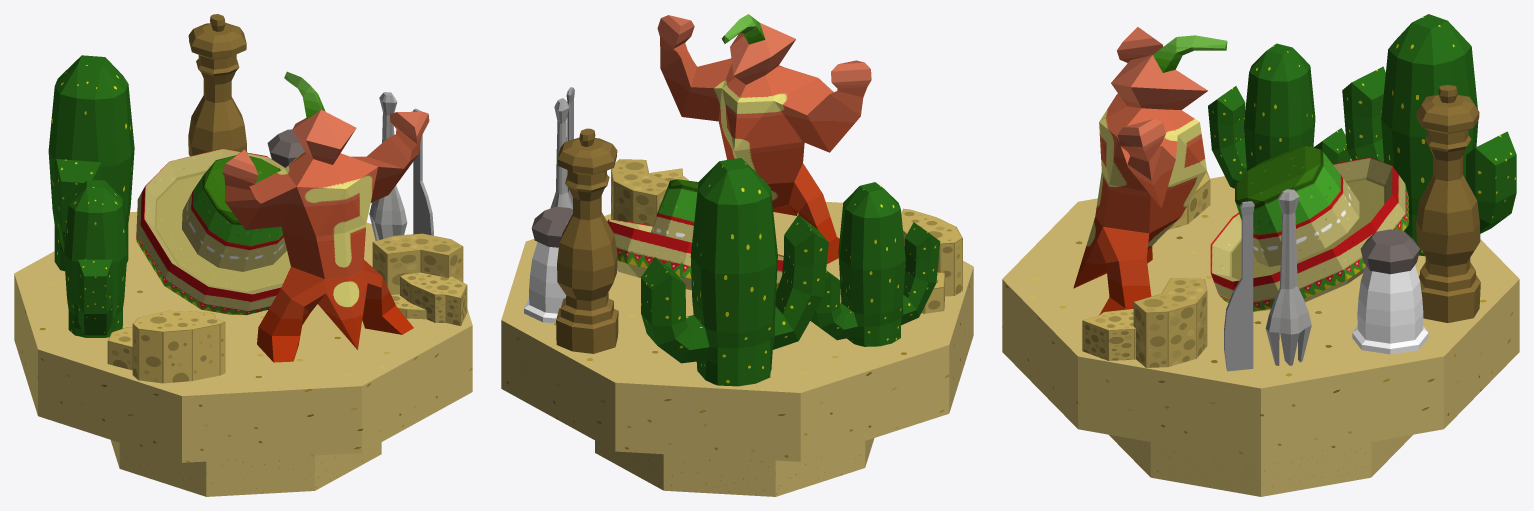
File: lil_level3.fbx
The picture shows the model from 3 angles, left to right: view 1: azimuth 30°, elevation 25°; view 2: azimuth 150°, elevation 25°; view 3: azimuth 270°, elevation 25°; orthographic projection. The views are drawn at different scales.
Parts seen in each view (by area): view 1: Cylinder, SPICY_MAN, Cube.270, Cube.274, Cube.269, Cube.272, Black_pepper_2.005, Cube.277, Cube.278, Cube.276, Cube.275, Cube.271 (+1 smaller); view 2: Cylinder, Cube.274, SPICY_MAN, Cube.269, Black_pepper_2.005, Cube.270, Black_pepper_1.005, Cube.277, Cube.272, Cube.276, Cube.271; view 3: Cylinder, SPICY_MAN, Cube.270, Cube.274, Black_pepper_2.005, Cube.269, Black_pepper_1.005, Cube.277, Cube.276, Cube.275, Cube.278, Cube.271.
Part boxes in pixels (x1,y1,x2,y2): Cylinder: (14, 211, 472, 496); SPICY_MAN: (222, 71, 429, 362); Cube.270: (136, 148, 290, 315); Cube.274: (48, 55, 134, 271); Cube.269: (64, 180, 127, 337); Cube.272: (132, 310, 225, 383); Black_pepper_2.005: (188, 14, 246, 156); Cube.277: (372, 233, 463, 294); Cube.278: (400, 272, 467, 326); Cube.276: (369, 92, 407, 240); Cube.275: (412, 108, 433, 235); Cube.271: (107, 327, 132, 370); Cylinder: (501, 202, 973, 496); Cube.274: (641, 158, 828, 386); SPICY_MAN: (657, 14, 871, 263); Cube.269: (810, 182, 940, 346); Black_pepper_2.005: (556, 128, 618, 353); Cube.270: (607, 179, 783, 290); Black_pepper_1.005: (524, 206, 572, 323); Cube.277: (611, 159, 669, 225); Cube.272: (901, 208, 962, 296); Cube.276: (550, 98, 572, 209); Cube.271: (921, 272, 944, 313); Cylinder: (1002, 176, 1519, 496); SPICY_MAN: (1073, 27, 1227, 314); Cube.270: (1210, 146, 1408, 311); Cube.274: (1342, 14, 1516, 256); Black_pepper_2.005: (1416, 85, 1480, 322); Cube.269: (1208, 43, 1350, 188); Black_pepper_1.005: (1352, 229, 1428, 354); Cube.277: (1133, 278, 1207, 367); Cube.276: (1265, 189, 1311, 365); Cube.275: (1224, 201, 1254, 371); Cube.278: (1082, 309, 1135, 360); Cube.271: (1168, 171, 1210, 229).
Bounding box in the file's own units: 3162 × 2768 × 3162.
13 materials, 8 textured.
